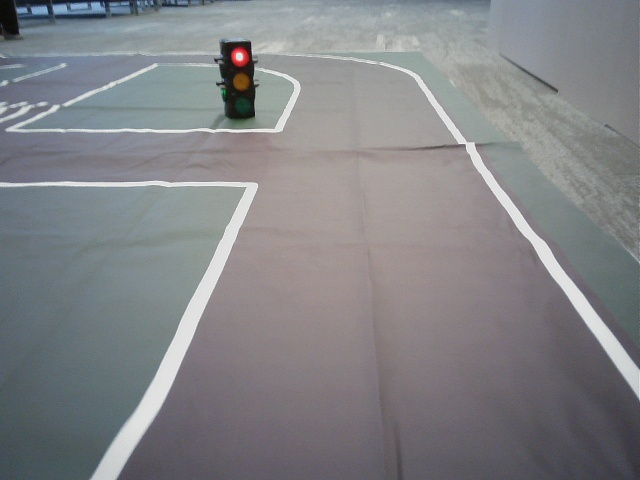red: (227, 46, 252, 116)
